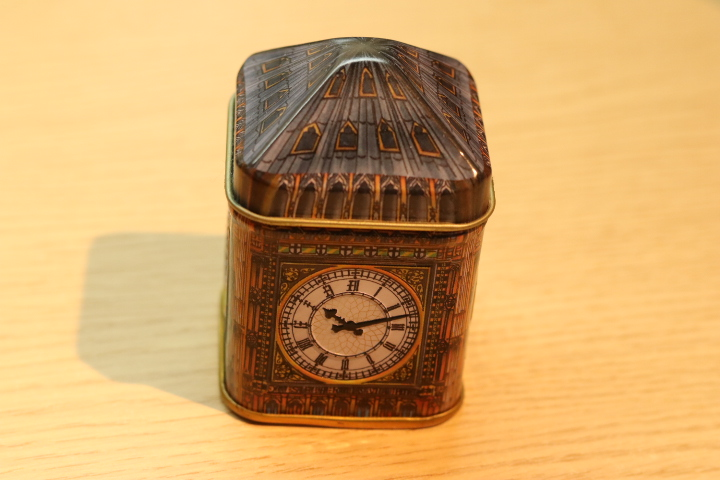Big Ben: (195, 19, 525, 454)
